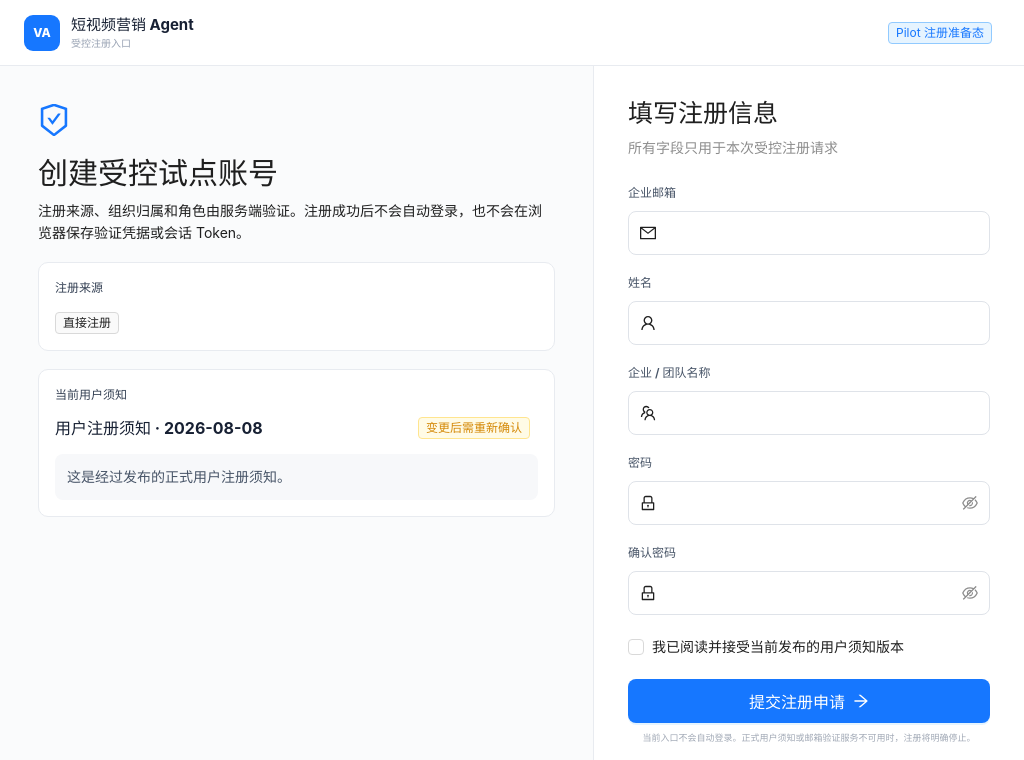
Test case: RegistrationPage › validates fields and explicit Terms acceptance before requesting evidence or registration
The width and height of the screenshot is (1024, 760).
Check: the text "这是经过发布的正式用户注册须知。" is shown, box [55,454,538,500]
Click the button with test id "registration-submit". click: (809, 701)
box: [628,679,990,723]
(page scrolled)
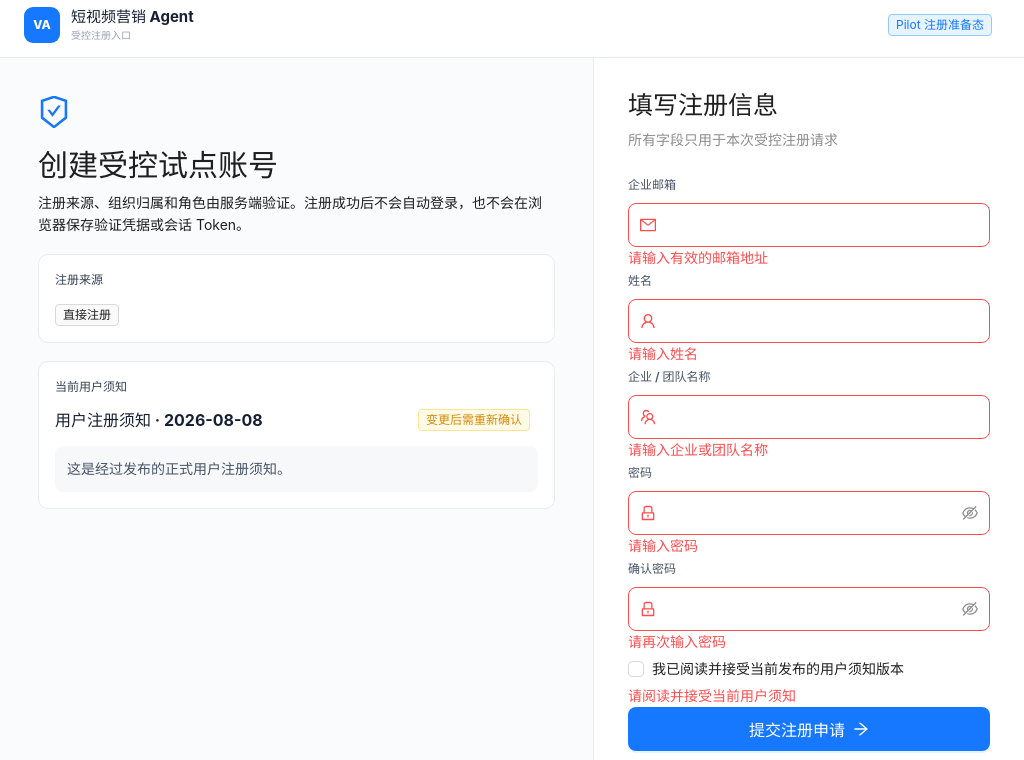
Check: the text "请输入有效的邮箱地址" is shown, box [628,249,768,266]
Check: the text "请阅读并接受当前用户须知" is shown, box [628,687,796,704]
